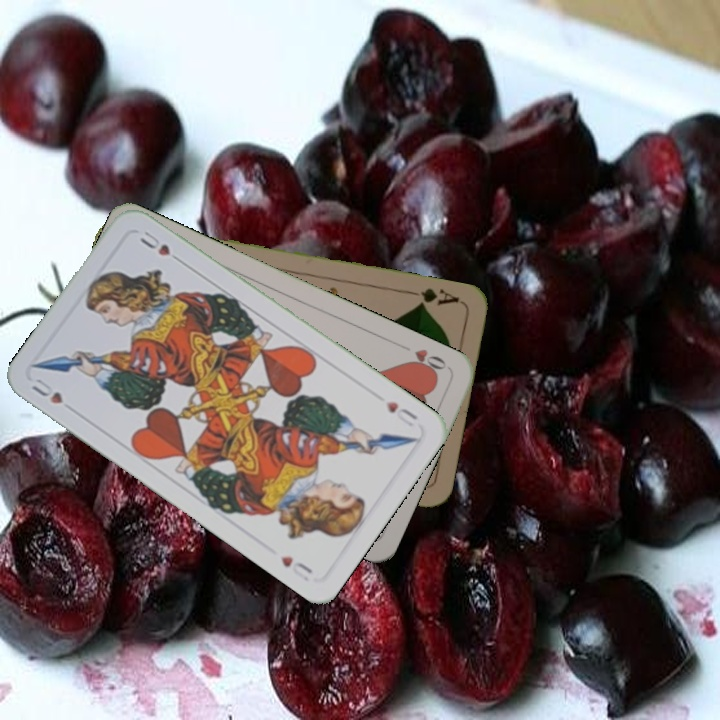GA: (404, 284, 462, 310)
HO: (402, 344, 449, 378)
HU: (381, 397, 420, 430), (28, 374, 66, 407)
